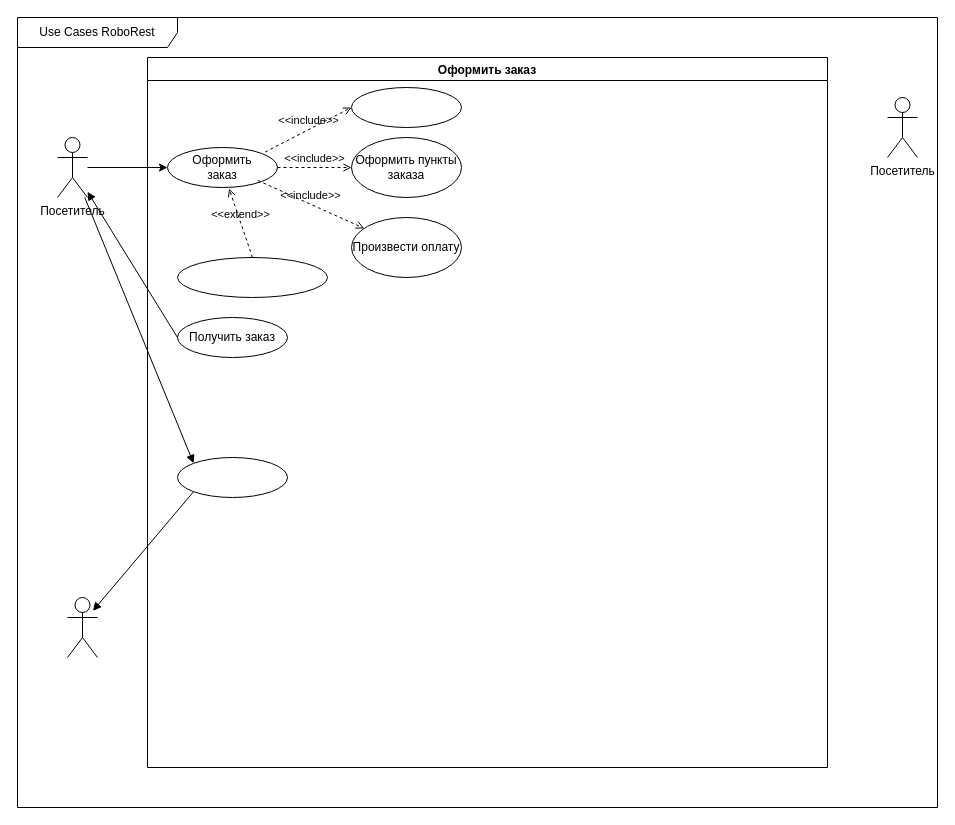
Some shapes in this 955 by 825 pixel diagram are drawn without their labels. The box of each missing label's shape, as (x1, y1, x2, y2) in pixels:
Зарегистрироваться в программе лояльности: (176, 256, 328, 298)
Менеджер на гостеприимстве: (66, 596, 98, 658)
Оформить отказ: (176, 456, 288, 498)
Просмотреть меню: (350, 86, 462, 128)
